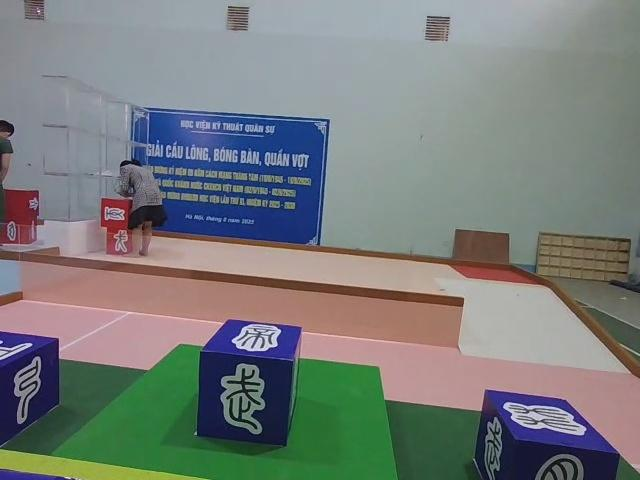R2 Fake Blue: (199, 320, 306, 449), (475, 391, 620, 480), (0, 332, 59, 451)
